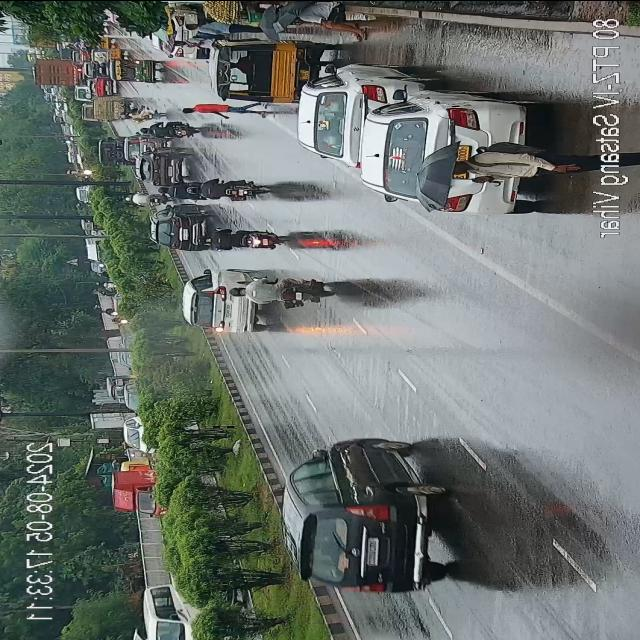2-wheelers: (244, 274, 332, 308), (186, 176, 266, 206), (206, 226, 278, 252), (136, 119, 196, 143), (118, 193, 176, 203), (122, 110, 170, 118)
auto: (209, 40, 311, 106), (112, 56, 164, 85)
car: (273, 431, 445, 593), (364, 87, 542, 216), (296, 68, 432, 168), (185, 268, 265, 338), (148, 203, 220, 255), (138, 146, 185, 190), (118, 416, 159, 454), (80, 74, 126, 96)
pedestrian: (405, 146, 595, 184), (286, 0, 368, 32), (185, 17, 252, 35), (181, 104, 273, 116), (156, 35, 224, 47)
truck: (28, 54, 87, 86)
